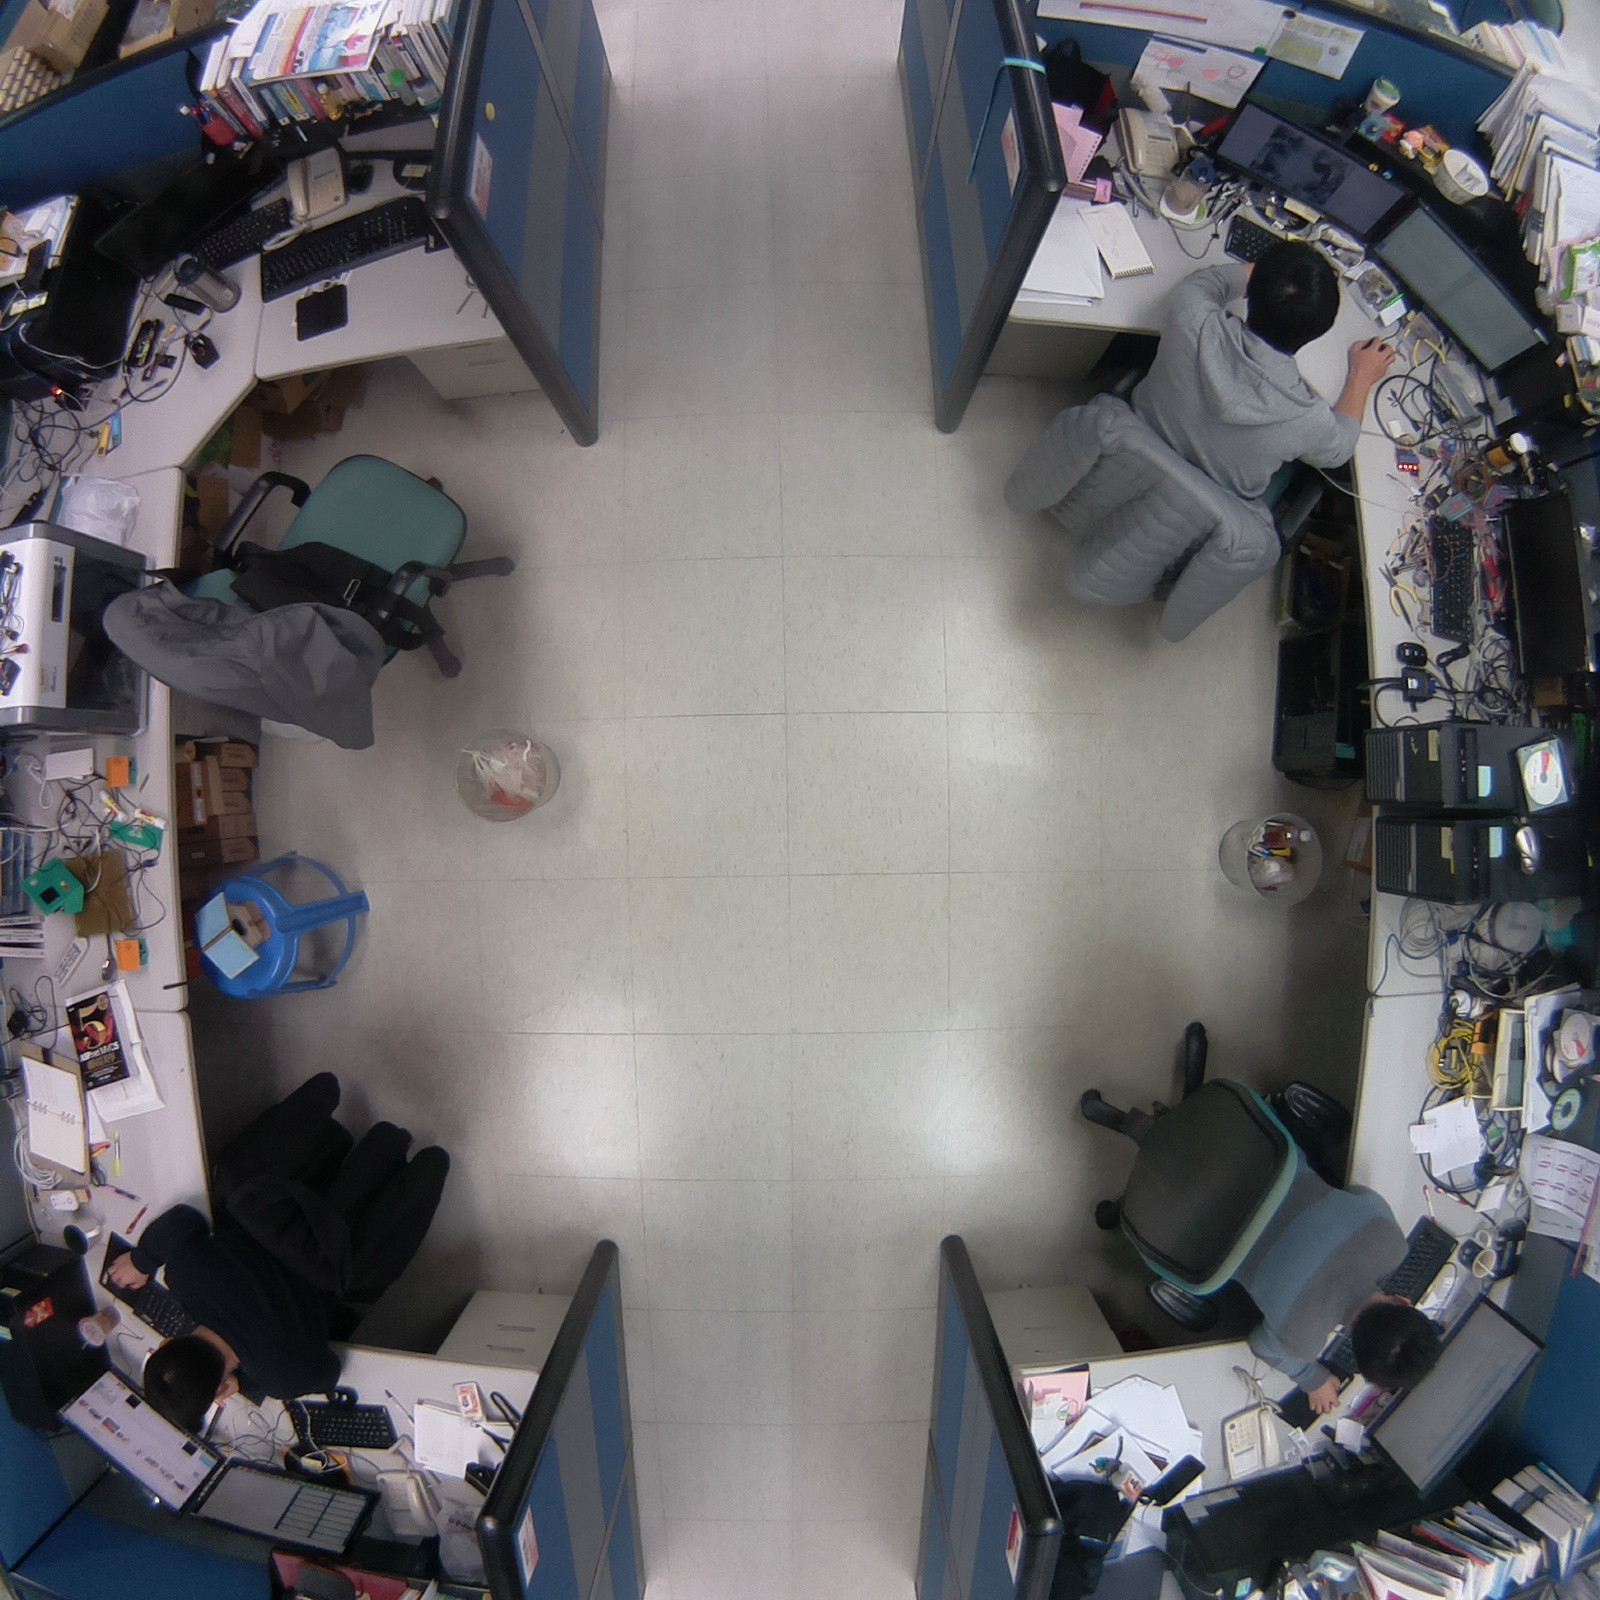chair: (88, 440, 517, 766)
sitting: (992, 227, 1408, 655), (1061, 1007, 1452, 1432), (79, 1059, 466, 1434)
